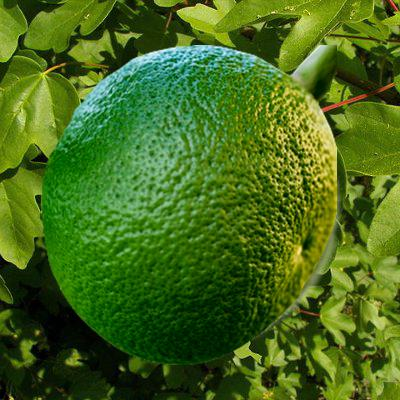dalandan: (41, 45, 335, 363), (235, 140, 342, 351)
